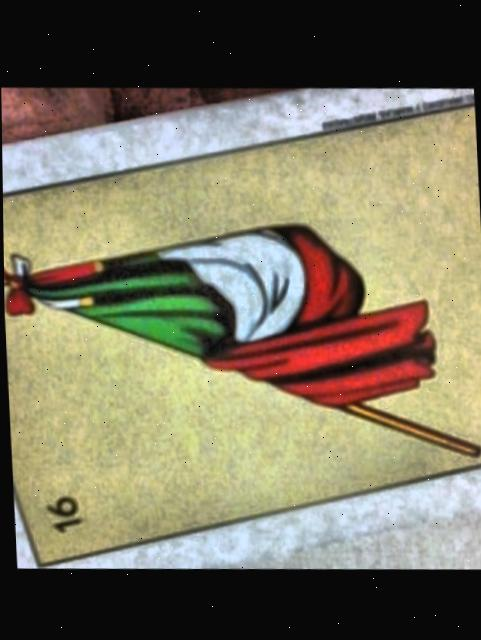La Bandera: (2, 101, 481, 567)
